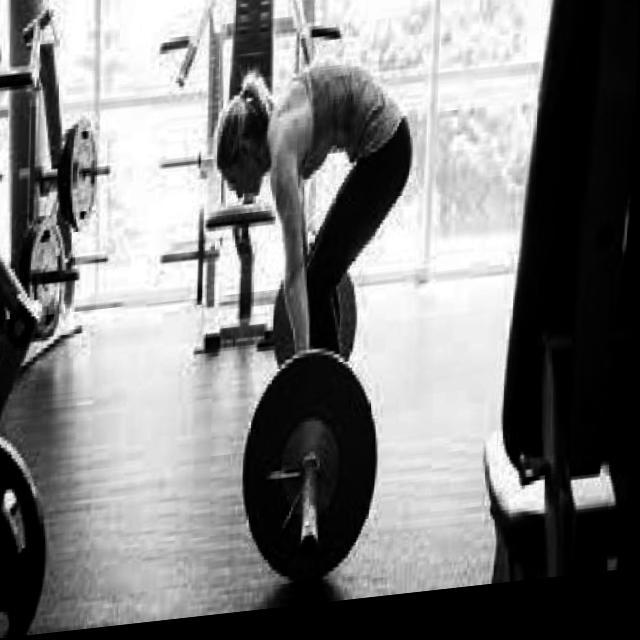barbell: (240, 346, 387, 603)
